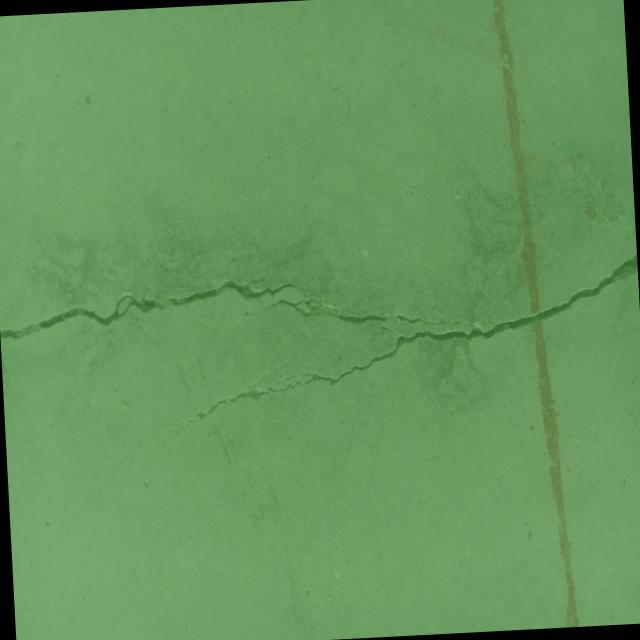crack: (187, 253, 640, 420), (0, 266, 462, 348)
